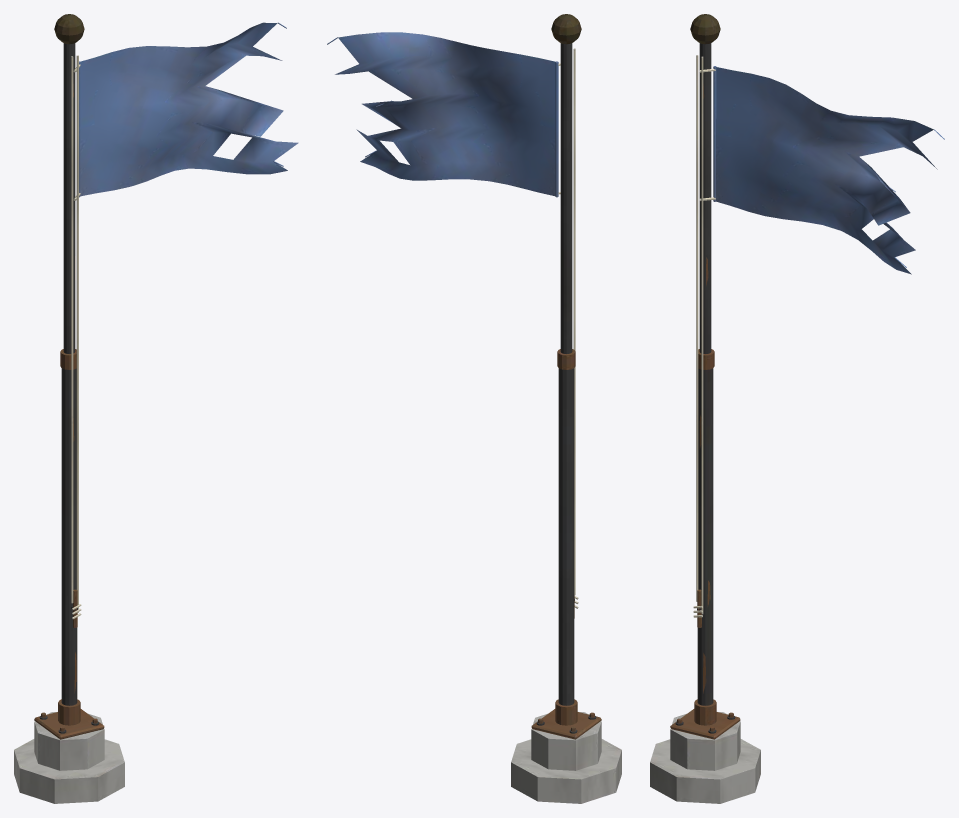
Rendered from SE06_school_flag_pole.glb.
The picture shows the model from 3 angles, left to right: view 1: azimuth 30°, elevation 25°; view 2: azimuth 150°, elevation 25°; view 3: azimuth 330°, elevation 25°; orthographic projection.
Visible parts, largest first — view 1: Concrete plinth; view 2: Concrete plinth; view 3: Concrete plinth.
Part boxes in pixels (left/top/right/bottom): Concrete plinth: left=14, top=14, right=298, bottom=803; Concrete plinth: left=327, top=14, right=621, bottom=803; Concrete plinth: left=650, top=14, right=944, bottom=803.
Bounding box in the file's own units: 1.9 × 5 × 0.68.
6 materials, 6 textured.
